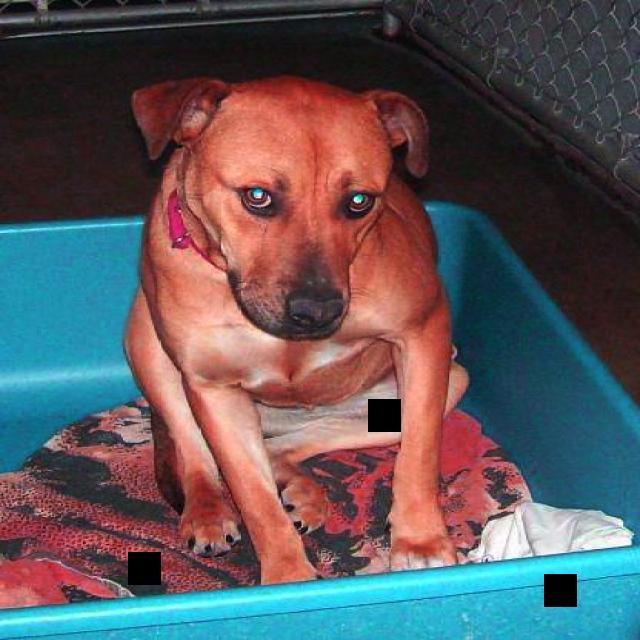adult_dog: (123, 70, 470, 586)
